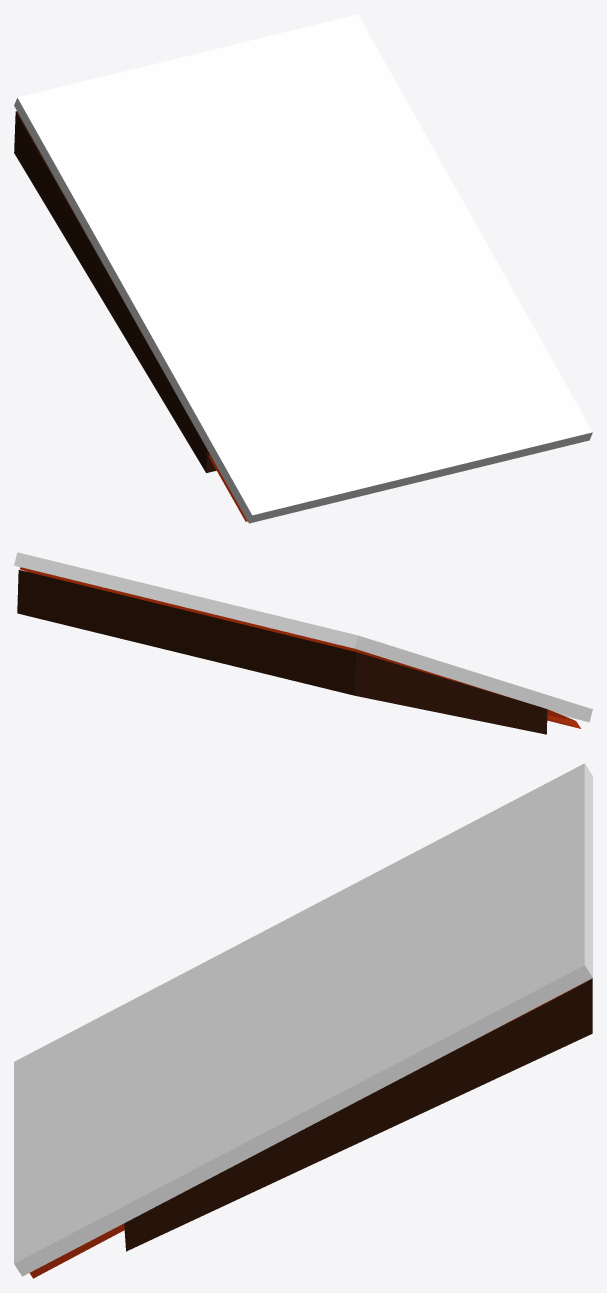
File: RoofWSnow_01.obj
3 renders of one model, top to bottom at view 1: azimuth 30°, elevation 25°; view 2: azimuth 150°, elevation 25°; view 3: azimuth 270°, elevation 25°, orthographic. The views are drawn at different scales.
Parts seen in each view (by area): view 1: RoofWSnow_01_Cube.098; view 2: RoofWSnow_01_Cube.098; view 3: RoofWSnow_01_Cube.098.
Boxes of the visible parts, box(x1,y1,x2,y2) form: RoofWSnow_01_Cube.098: box(14, 14, 592, 523); RoofWSnow_01_Cube.098: box(14, 552, 592, 734); RoofWSnow_01_Cube.098: box(14, 763, 592, 1278).
Size of the model in its own units: 4.07 by 2.97 by 4.93.
